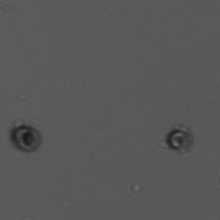Dead Cell: (8, 120, 44, 156), (161, 124, 196, 155)
